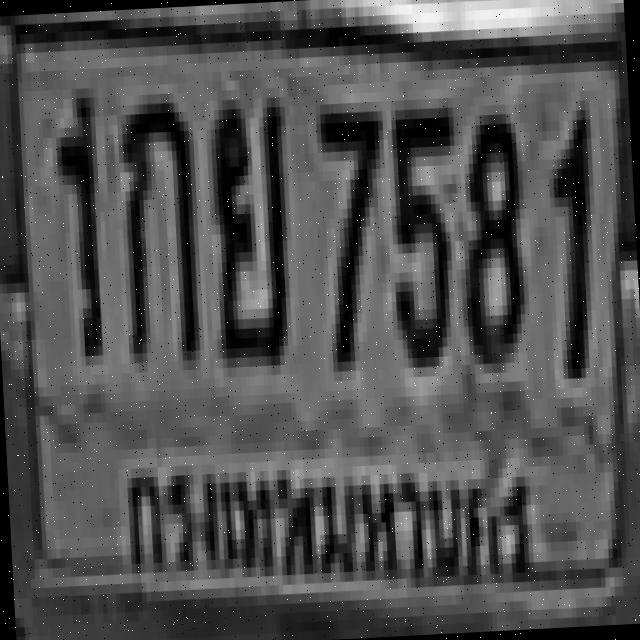1: (49, 84, 102, 352), (546, 100, 598, 370)
10GorGai: (116, 93, 200, 354)
43YorYak: (204, 88, 294, 358)
5: (382, 98, 461, 359)
7: (316, 101, 390, 362)
8: (452, 104, 528, 356)
Bangkok: (109, 424, 540, 630)
